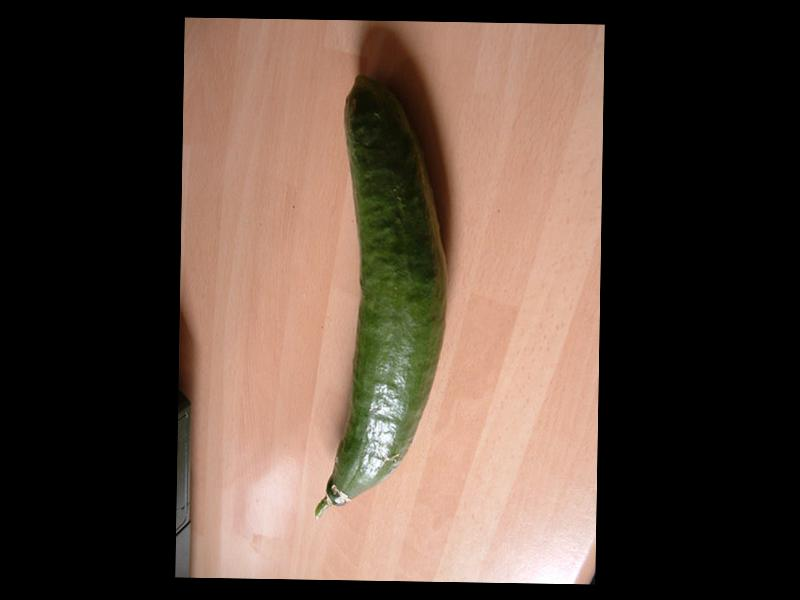Cucumber: (315, 72, 453, 520)
